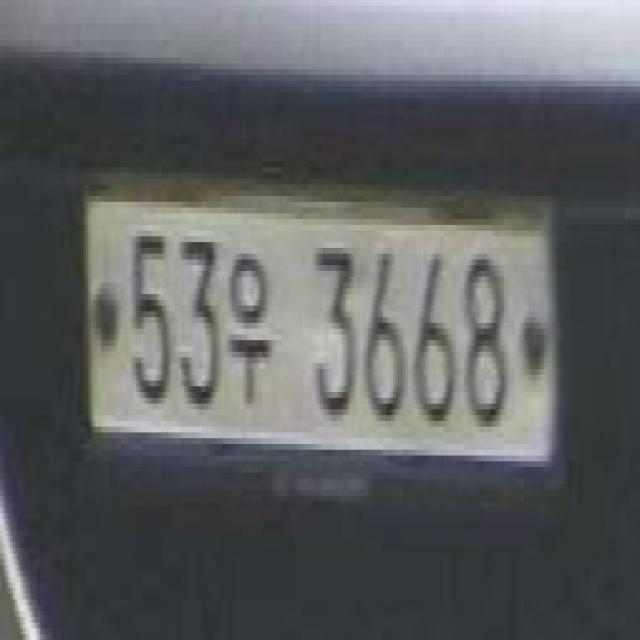3: (308, 240, 361, 424), (178, 228, 223, 414)
5: (127, 226, 173, 412)
6: (363, 244, 408, 426), (411, 244, 458, 418)
8: (462, 248, 510, 428)
license_plate: (76, 168, 562, 487)
u: (226, 246, 276, 416)
